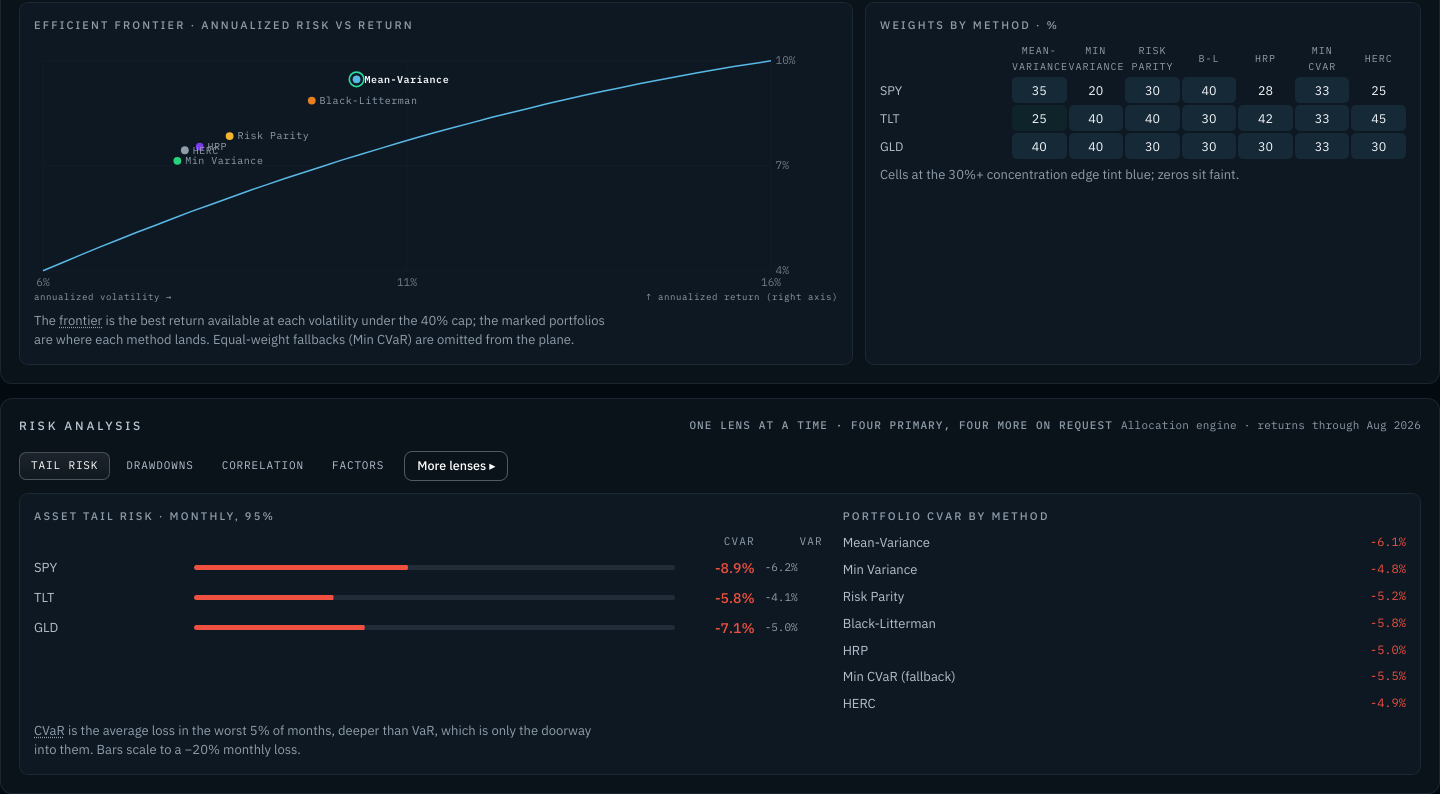
Test case: RiskLenses (checklist 09 E.1 row 9) › currency: a table with a th per regime and a row per pair with the σ figure
(page scrolled)
Check: the element with id "allocation-risk" is shown, box [0,398,1439,793]
Check: the element named "Risk lens" is shown, box [19,452,396,480]
Click the button "More lenses ▸".
click(456, 466)  # box [404,451,508,481]
(page scrolled)
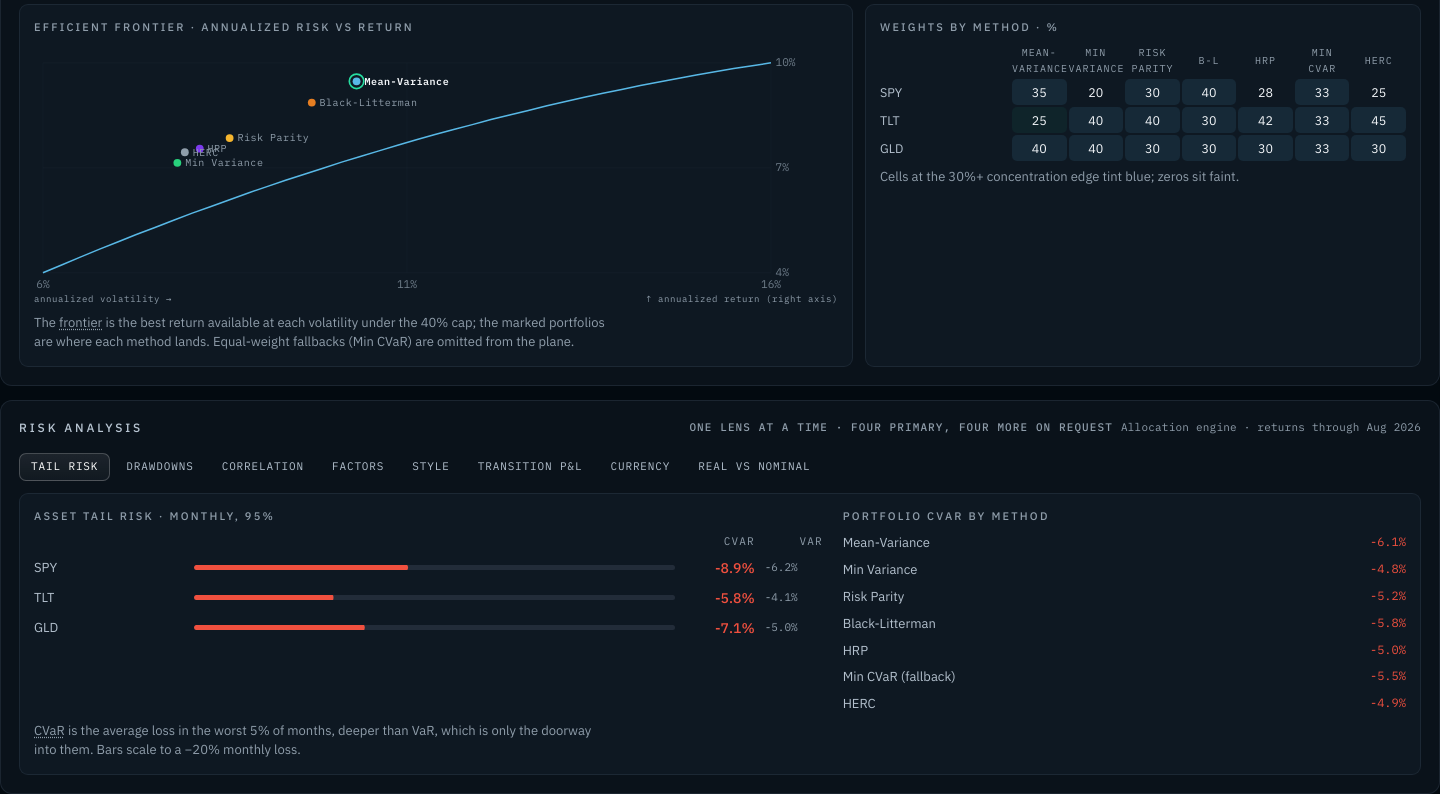
Click the button "Currency".
click(640, 467)  # box [598,453,682,481]
(page scrolled)
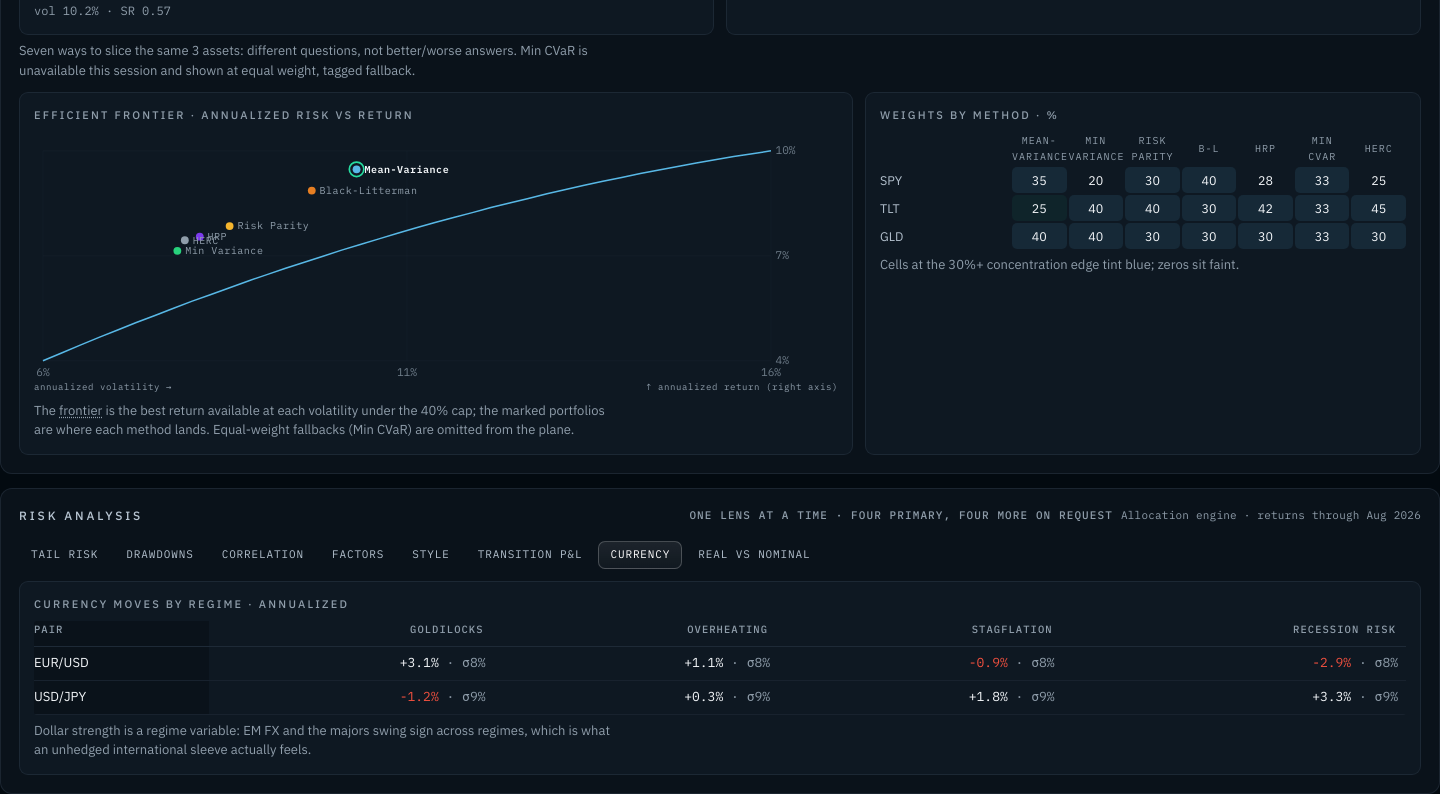
Check: the element with id "allocation-risk" shows "Currency moves by regime · annualized", box [34,597,349,611]
Check: the element with id "allocation-risk" shows "Dollar strength is a regime variable", box [34,722,610,758]
